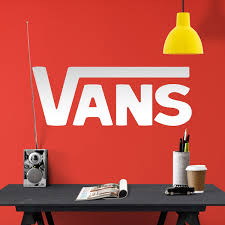vans: (30, 66, 193, 126)
